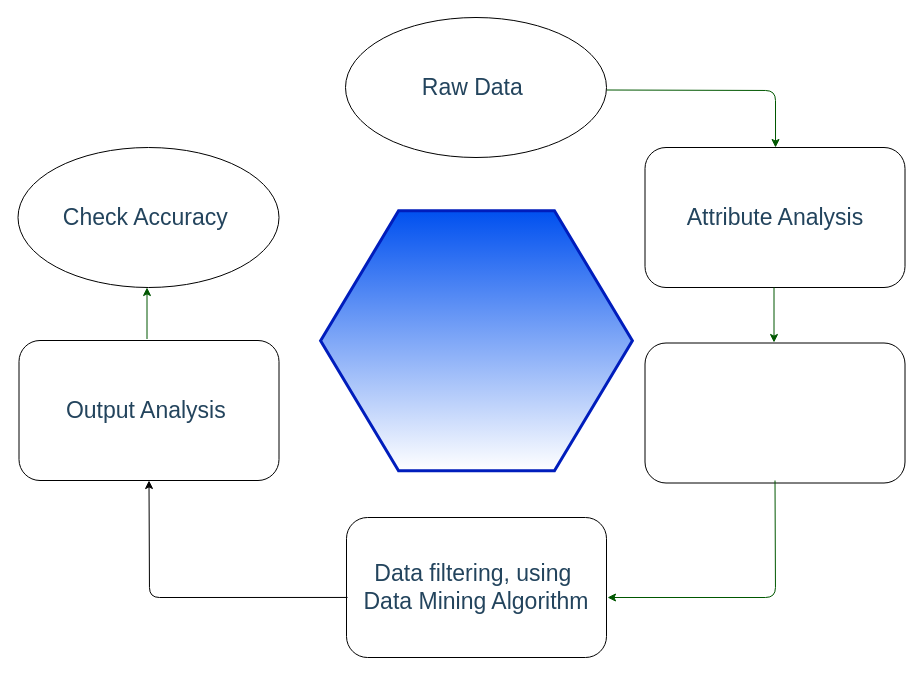
Some shapes in this 922 by 675 pixel diagram are drawn without their labels. Each missing label, with the centre of its shape:
Data Analysis: the point at 774,412
Work Process: the point at 476,340
